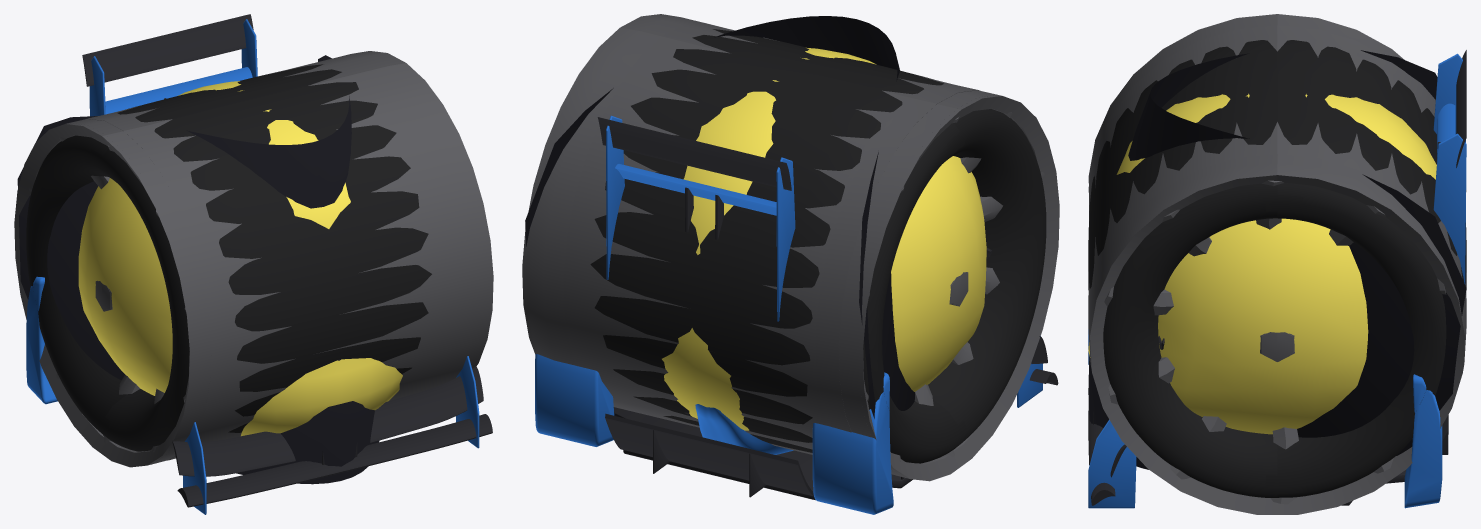
3 renders of one model, left to right at view 1: azimuth 30°, elevation 25°; view 2: azimuth 150°, elevation 25°; view 3: azimuth 270°, elevation 25°, orthographic. The views are drawn at different scales.
Visible parts, largest first — view 1: tyre_FR, rim_FL, tyre_FL, helmet, carbon, rim_FR, visor, rim_RR, body, tyre_RR, rim_RL, tyre_RL; view 2: tyre_RR, tyre_RL, rim_FL, helmet, body, rim_FR, carbon, rim_RL, rim_RR, tyre_FR, visor, tyre_FL; view 3: helmet, tyre_RL, tyre_FL, rim_FR, visor, body, rim_FL, tyre_RR, tyre_FR, rim_RL, rim_RR, carbon.
Boxes of the visible parts, <box> form: tyre_FR: <box>29,99,382,451</box>; rim_FL: <box>14,58,456,467</box>; tyre_FL: <box>227,82,431,377</box>; helmet: <box>78,81,402,436</box>; carbon: <box>82,14,492,507</box>; rim_FR: <box>85,51,493,460</box>; visor: <box>17,55,379,484</box>; rim_RR: <box>29,51,405,464</box>; body: <box>26,19,479,514</box>; tyre_RR: <box>26,88,253,437</box>; rim_RL: <box>44,54,449,467</box>; tyre_RL: <box>199,64,341,105</box>; tyre_RR: <box>646,68,1043,463</box>; tyre_RL: <box>590,49,822,440</box>; rim_FL: <box>563,22,1059,481</box>; helmet: <box>662,47,986,430</box>; body: <box>535,115,1042,514</box>; rim_FR: <box>526,14,979,432</box>; carbon: <box>597,117,1058,500</box>; rim_RL: <box>545,18,1059,478</box>; rim_RR: <box>522,20,1044,477</box>; tyre_FR: <box>791,55,1046,451</box>; visor: <box>525,16,914,418</box>; tyre_FL: <box>692,29,814,67</box>; helmet: <box>1088,93,1436,434</box>; tyre_RL: <box>1120,93,1466,497</box>; tyre_FL: <box>1088,93,1434,497</box>; rim_FR: <box>1088,25,1466,514</box>; visor: <box>1088,50,1466,469</box>; body: <box>1088,53,1466,508</box>; rim_FL: <box>1088,14,1466,361</box>; tyre_RR: <box>1277,40,1466,261</box>; tyre_FR: <box>1088,40,1277,261</box>; rim_RL: <box>1104,14,1466,504</box>; rim_RR: <box>1088,16,1466,506</box>; carbon: <box>1088,50,1466,505</box>.
Size of the model in its own units: 65536 by 65534 by 65537.
